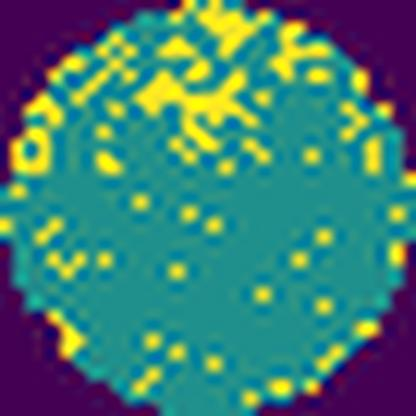Loc: (138, 67, 253, 151), (195, 10, 257, 56)
